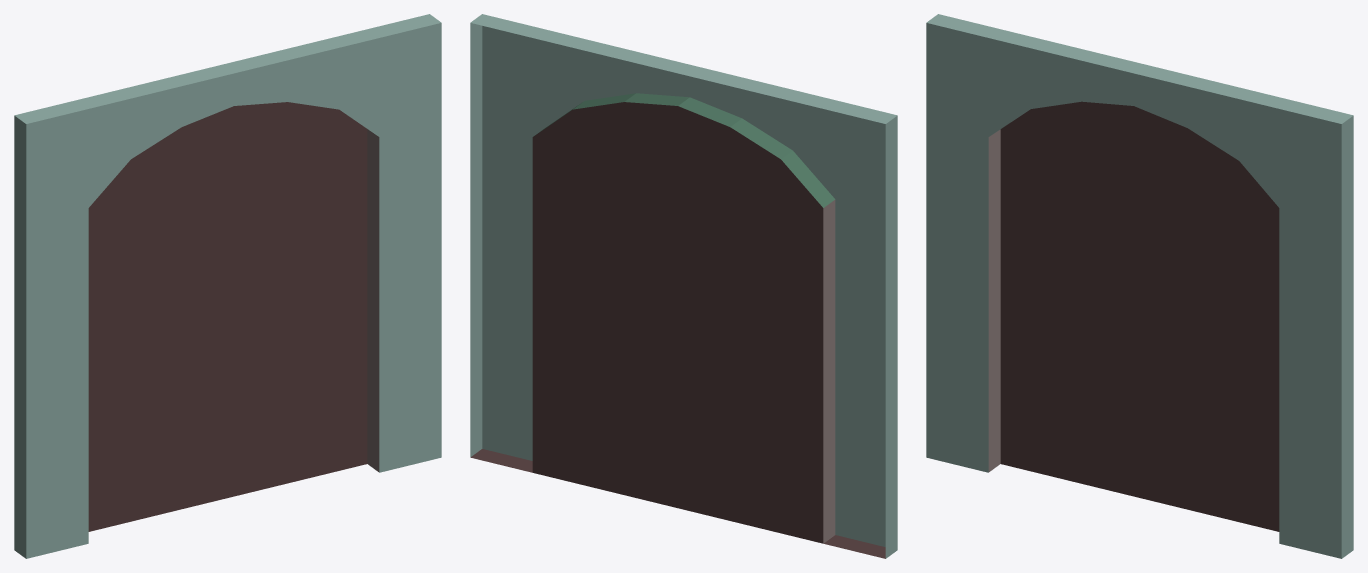
Rendered from SM_Porte2x2_3.fbx.
The picture shows the model from 3 angles, left to right: view 1: azimuth 30°, elevation 25°; view 2: azimuth 150°, elevation 25°; view 3: azimuth 330°, elevation 25°; orthographic projection.
Visible parts, largest first — view 1: SM_Porte2x2_3; view 2: SM_Porte2x2_3; view 3: SM_Porte2x2_3.
Boxes of the visible parts, <box> form: SM_Porte2x2_3: <box>14,14,441,558</box>; SM_Porte2x2_3: <box>470,14,897,558</box>; SM_Porte2x2_3: <box>926,14,1353,558</box>.
Size of the model in its own units: 200 by 200 by 10.01.
